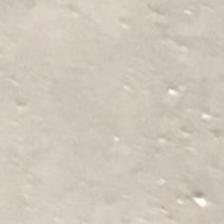Non_Crack: (33, 32, 192, 186)
